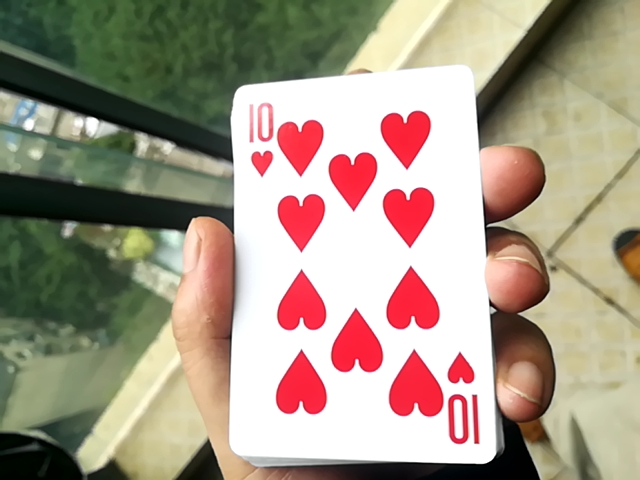hx 10: (227, 52, 489, 467)
